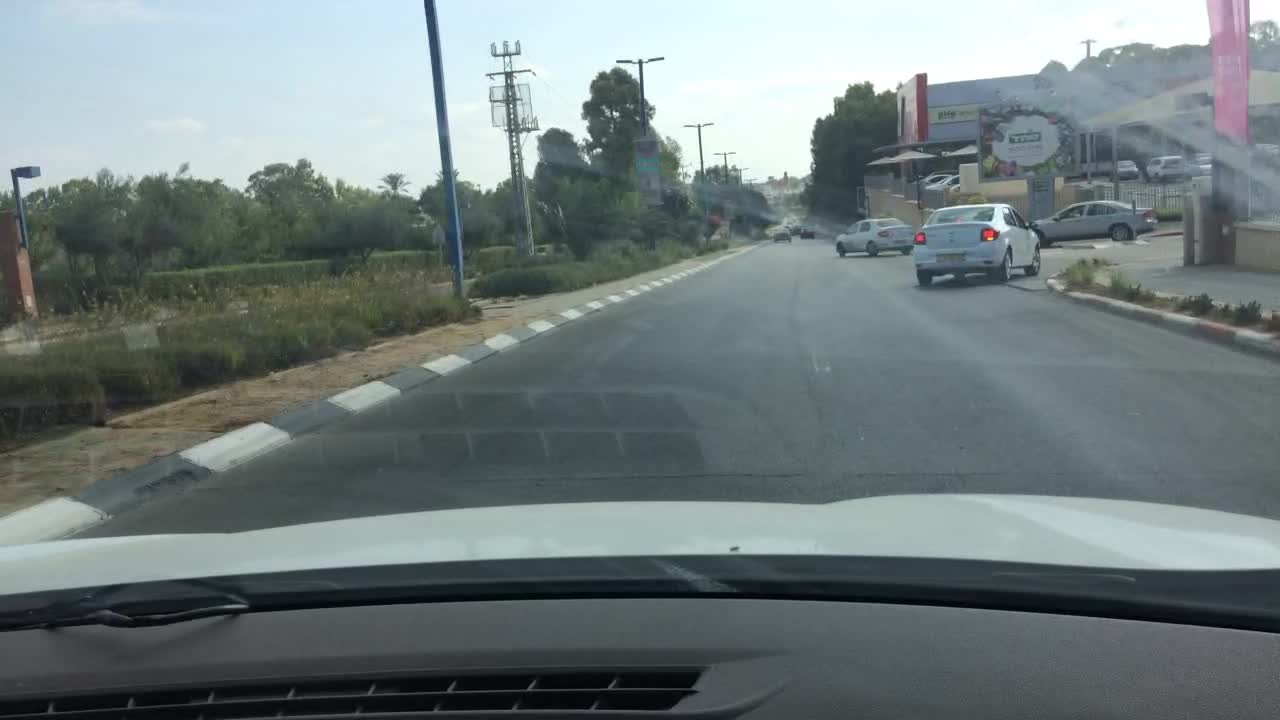car: (913, 199, 1042, 288), (1032, 196, 1159, 244), (835, 214, 913, 257), (1137, 153, 1185, 183), (1106, 158, 1142, 181), (1189, 150, 1215, 177), (924, 173, 961, 189), (912, 173, 944, 189), (797, 224, 817, 240), (769, 225, 790, 240), (783, 220, 800, 233)
